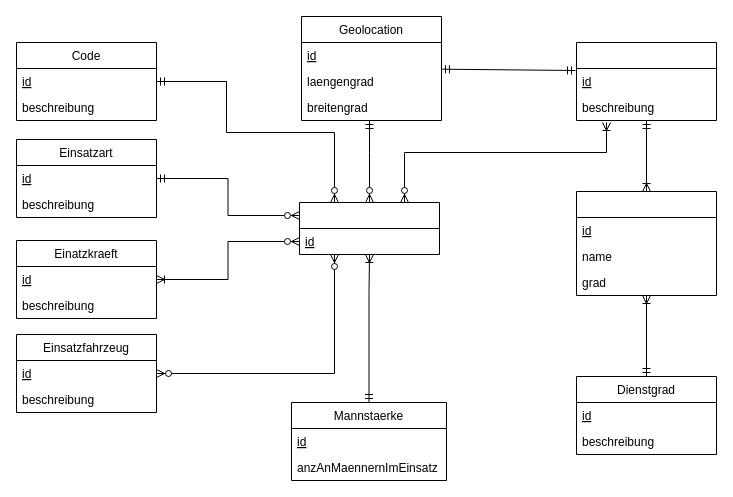
Some shapes in this 733 by 497 pixel diagram are drawn without their labels. The box of each missing label's shape, as (x1, y1, x2, y2) in pixels:
Einsatz: (298, 202, 440, 254)
Mitglied: (576, 190, 716, 296)
Stuetzpunkt: (576, 42, 716, 120)
